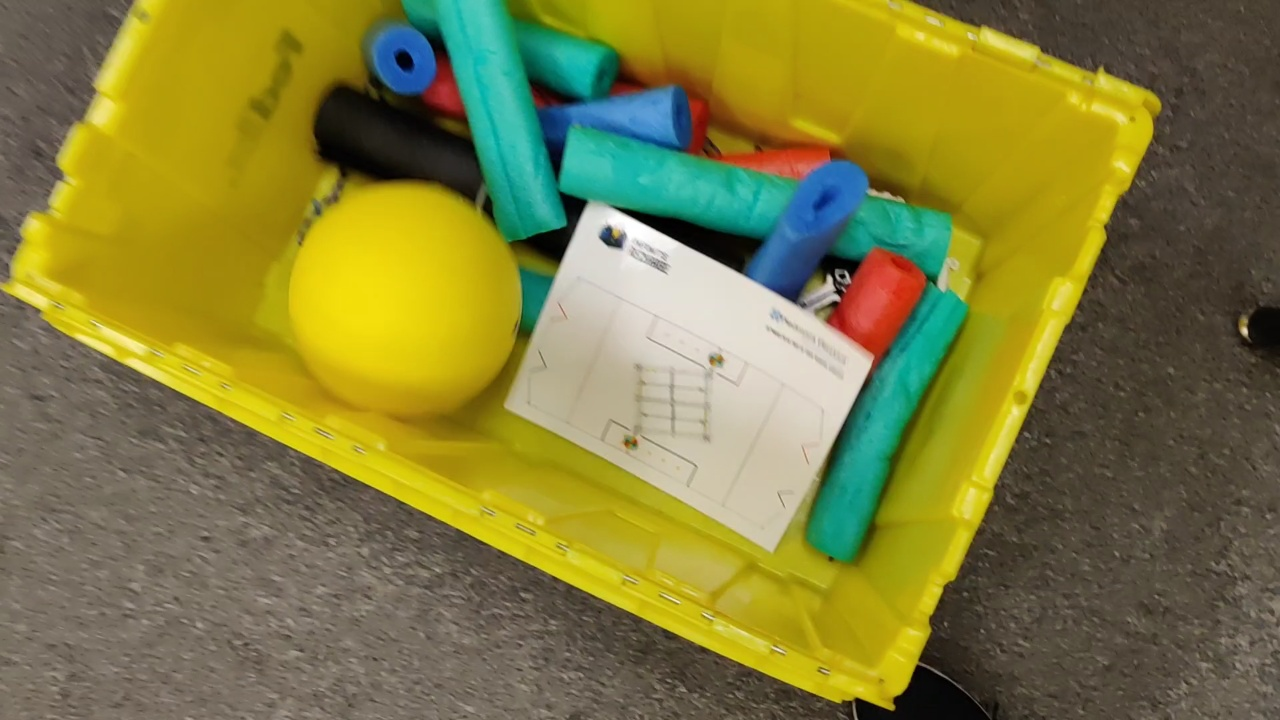Ball: (289, 183, 525, 417)
